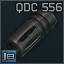KAC QDC 5.56x45 flash suppressor kit: (0, 0, 64, 64)
